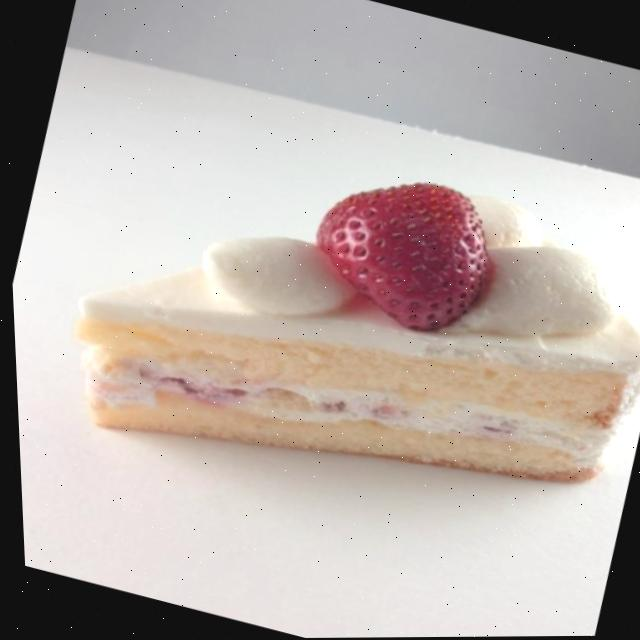蛋糕甜品: (23, 61, 640, 574)
